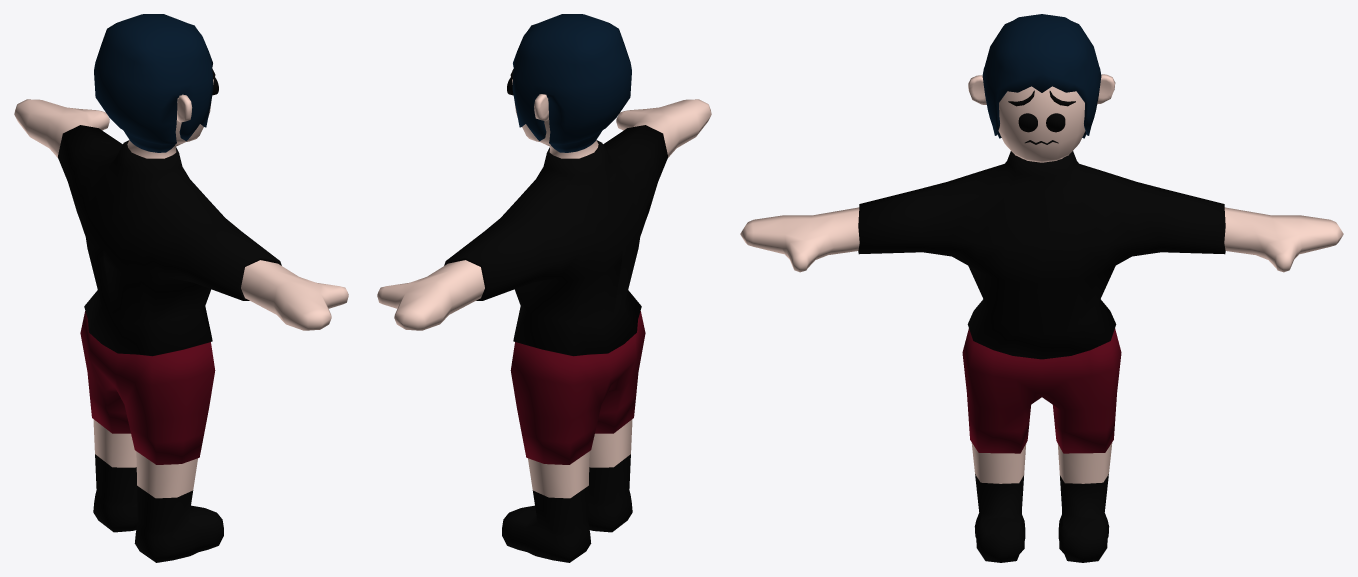
Rendered from female1.fbx.
3 renders of one model, left to right at view 1: azimuth 30°, elevation 25°; view 2: azimuth 150°, elevation 25°; view 3: azimuth 270°, elevation 25°, orthographic.
Visible parts, largest first — view 1: Merged.001; view 2: Merged.001; view 3: Merged.001.
Boxes of the visible parts, x1=… form: Merged.001: x1=14, y1=14, x2=348, y2=562; Merged.001: x1=377, y1=14, x2=711, y2=562; Merged.001: x1=740, y1=14, x2=1343, y2=562.
Bounding box in the file's own units: 59.57 × 231 × 242.
